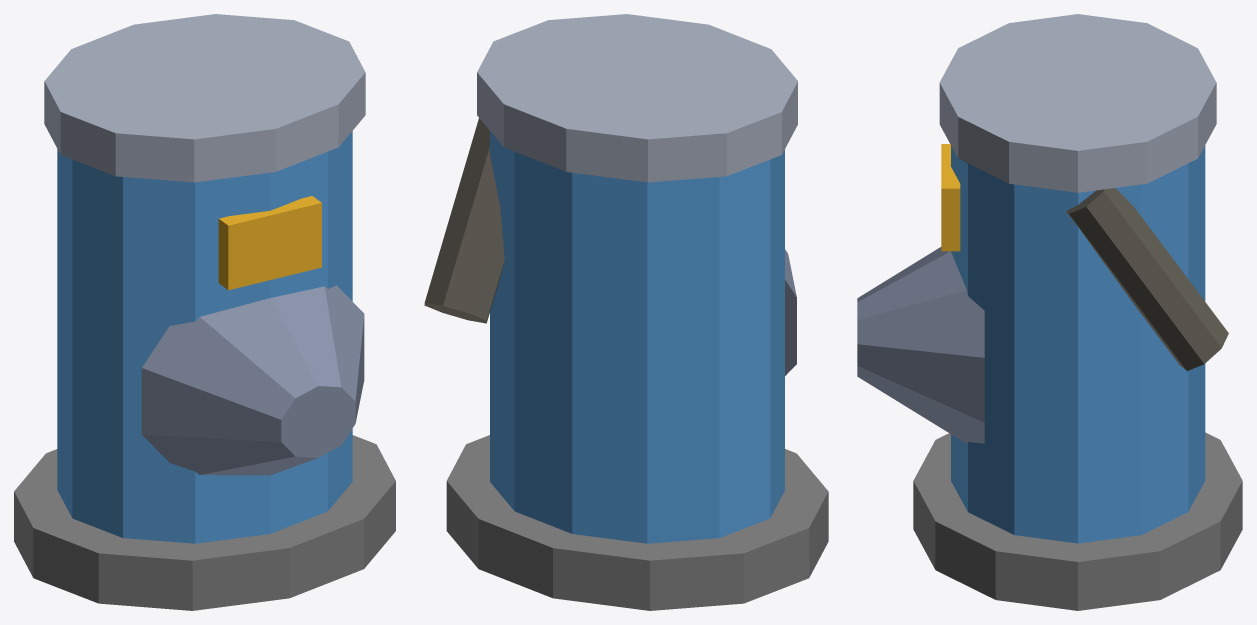
The model's file is vacuum_station.glb.
3 views of the same model, side by side, from view 1: azimuth 30°, elevation 25°; view 2: azimuth 150°, elevation 25°; view 3: azimuth 270°, elevation 25° (orthographic). The views are drawn at different scales.
Parts seen in each view (by area): view 1: vacuum_station; view 2: vacuum_station; view 3: vacuum_station.
Part boxes in pixels (box(x1,y1,x2,y2)): vacuum_station: box(14, 14, 395, 610); vacuum_station: box(424, 14, 828, 610); vacuum_station: box(857, 14, 1242, 610).
Size of the model in its own units: 1 by 1.28 by 1.
